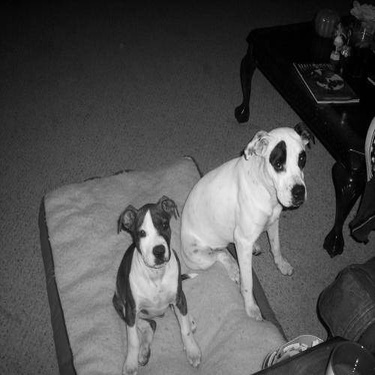dog: (175, 117, 318, 323), (103, 192, 207, 373)
